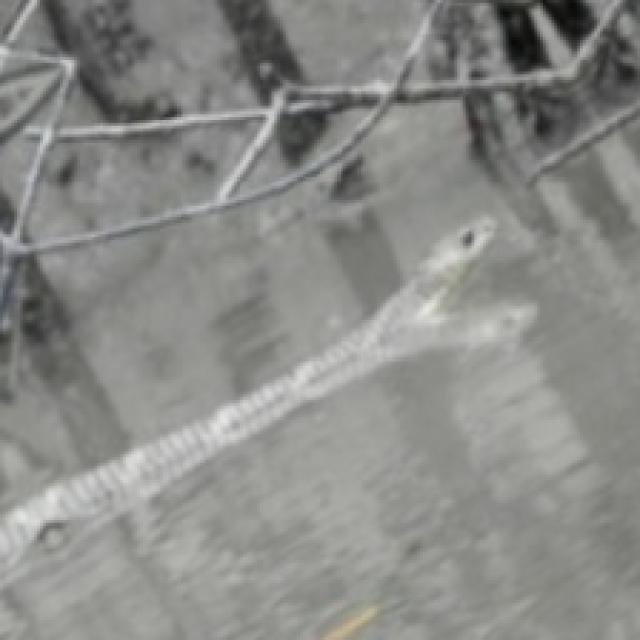king cobra: (0, 71, 637, 637), (26, 120, 260, 237), (414, 3, 509, 77)
